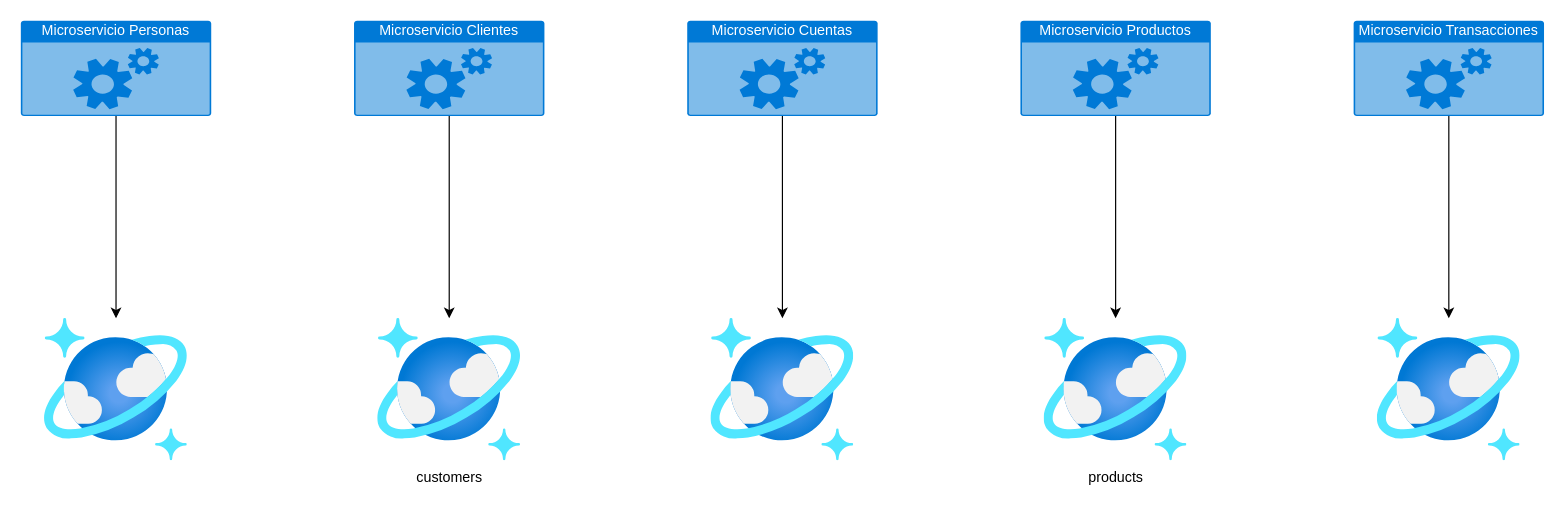
The diagram is 1564 pixels wide and 506 high, and some of its shapes have lost their labels. The centre of each missing label's shape, as x and y in pixels:
accounts: point 781,389
persons: point 115,389
transactions: point 1448,389
